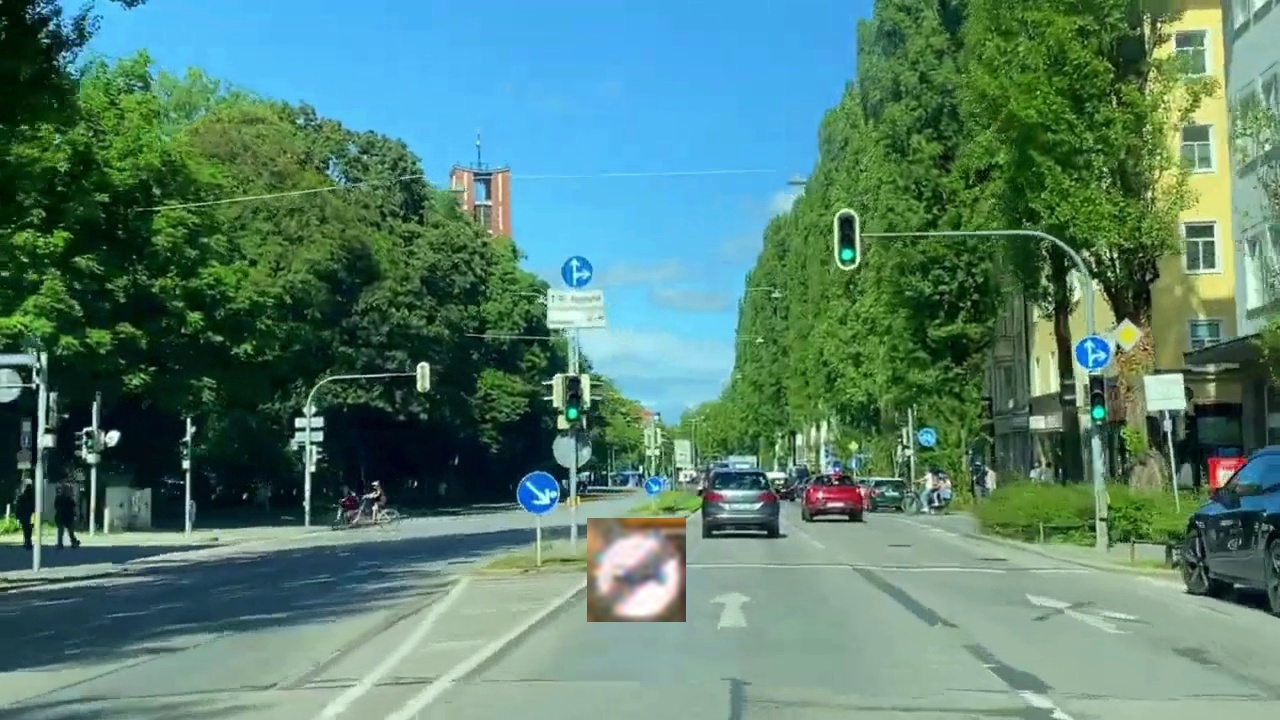End no pass: (587, 518, 686, 622)
